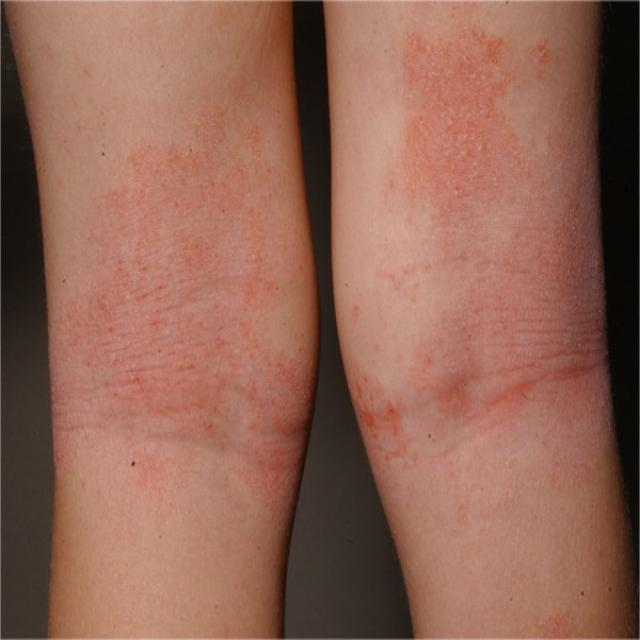eczema: (59, 90, 283, 484), (377, 31, 557, 372)
